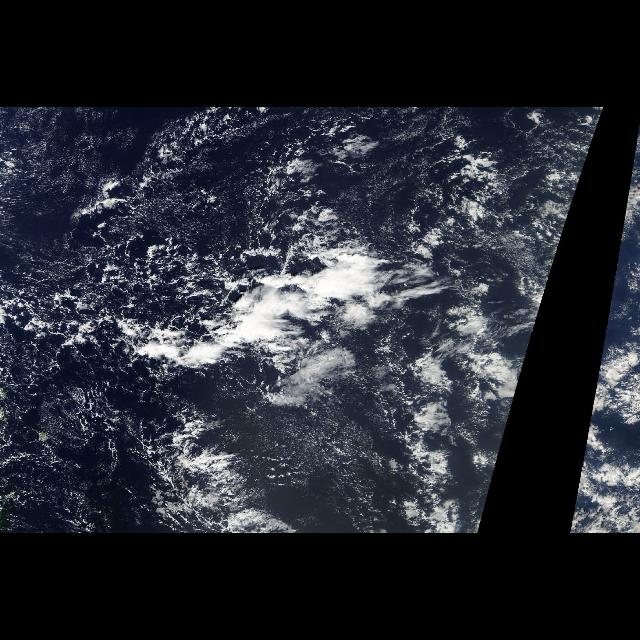Gravel: (0, 111, 448, 533)
Sugar: (0, 109, 262, 275), (252, 393, 412, 532), (13, 381, 137, 533)
